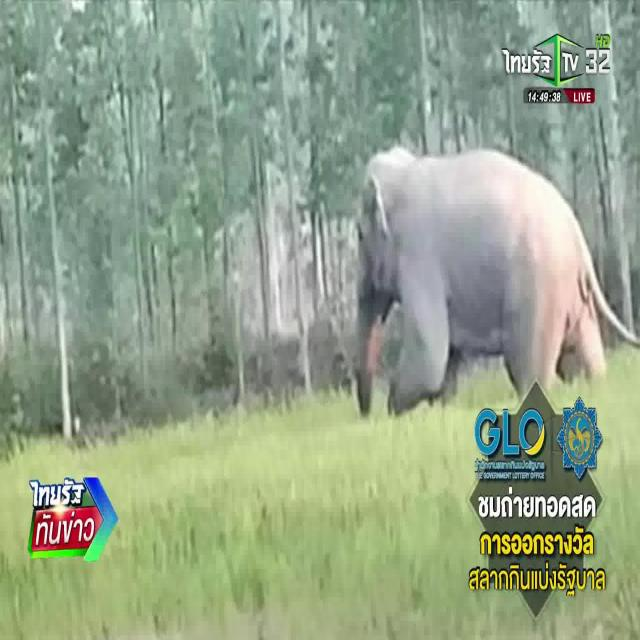Elephant: (340, 142, 606, 385)
